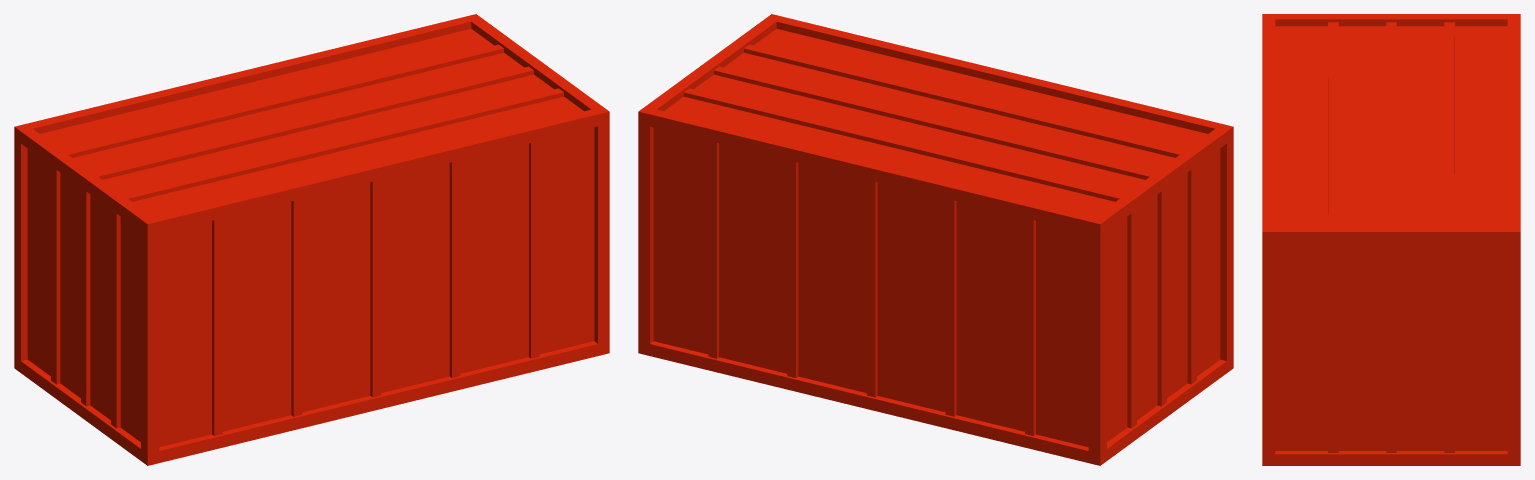
Rendered from Container_2.fbx.
The picture shows the model from 3 angles, left to right: view 1: azimuth 30°, elevation 25°; view 2: azimuth 150°, elevation 25°; view 3: azimuth 270°, elevation 25°; orthographic projection. The views are drawn at different scales.
Parts seen in each view (by area): view 1: Container_2; view 2: Container_2; view 3: Container_2.
Part boxes in pixels (x1,y1,x2,y2): Container_2: (14, 14, 609, 465); Container_2: (638, 14, 1233, 465); Container_2: (1262, 14, 1520, 465).
Size of the model in its own units: 369 by 185 by 185.
